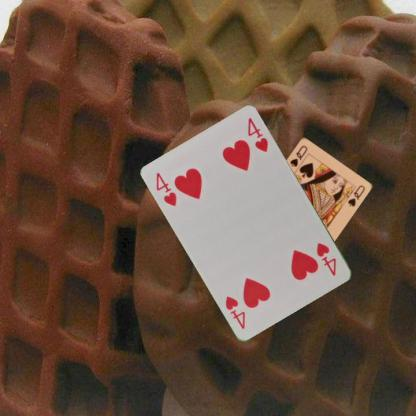4h: (154, 170, 178, 208), (314, 240, 338, 277)
Qs: (287, 142, 309, 168)
